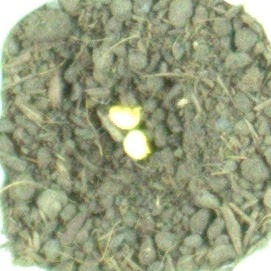chilli seed: (122, 128, 153, 162), (106, 103, 144, 130)
